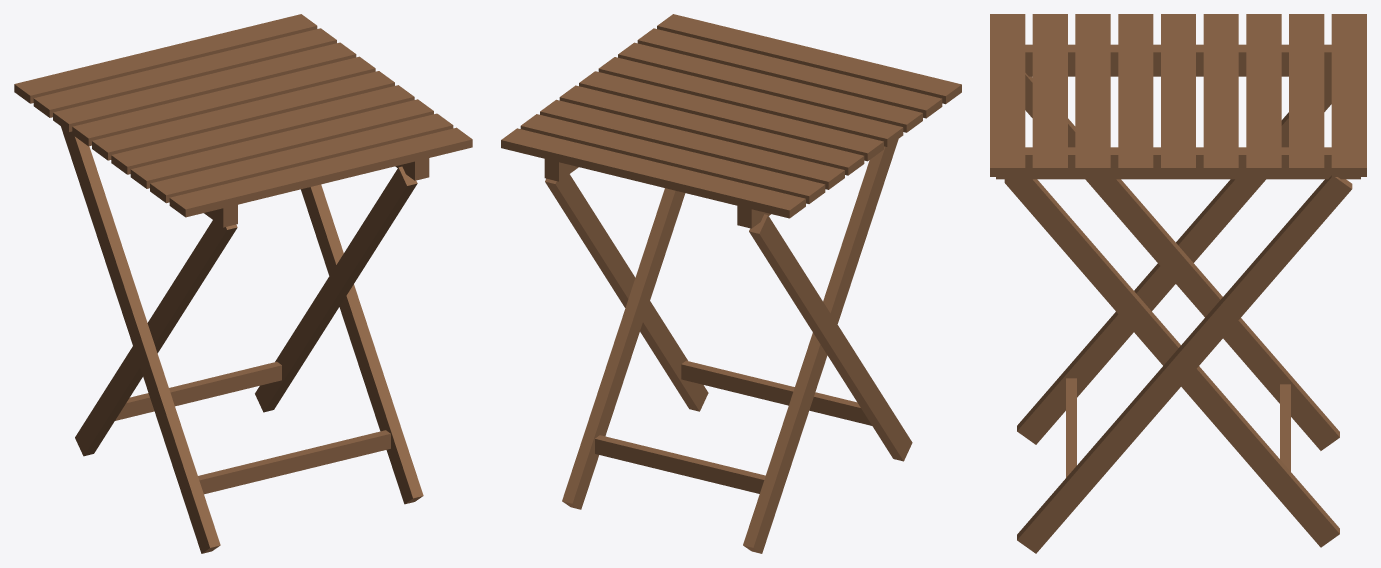
3 renders of one model, left to right at view 1: azimuth 30°, elevation 25°; view 2: azimuth 150°, elevation 25°; view 3: azimuth 270°, elevation 25°, orthographic. The views are drawn at different scales.
Parts seen in each view (by area): view 1: Wood; view 2: Wood; view 3: Wood.
Boxes of the visible parts, x1,y1,x2,y2 form: Wood: (14, 14, 472, 553); Wood: (501, 14, 961, 553); Wood: (990, 14, 1366, 553).
Size of the model in its own units: 0.6 by 0.7364 by 0.62.
